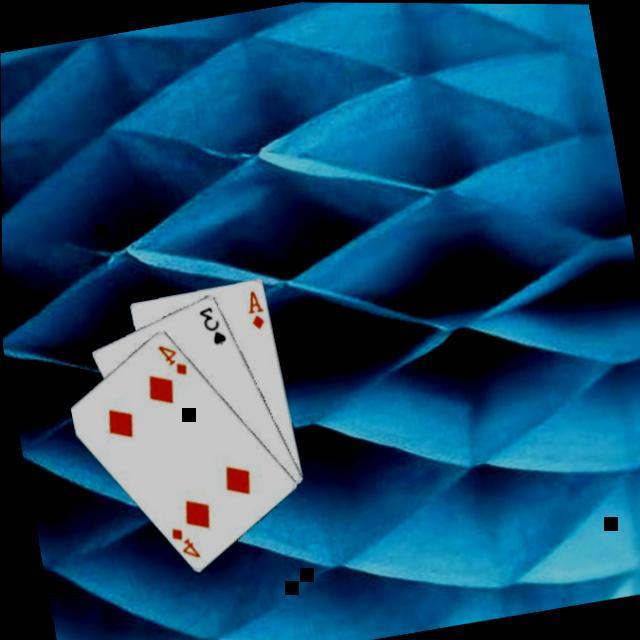3S: (196, 300, 231, 350)
4D: (168, 520, 204, 565), (155, 338, 192, 381)
AD: (243, 286, 271, 332)
